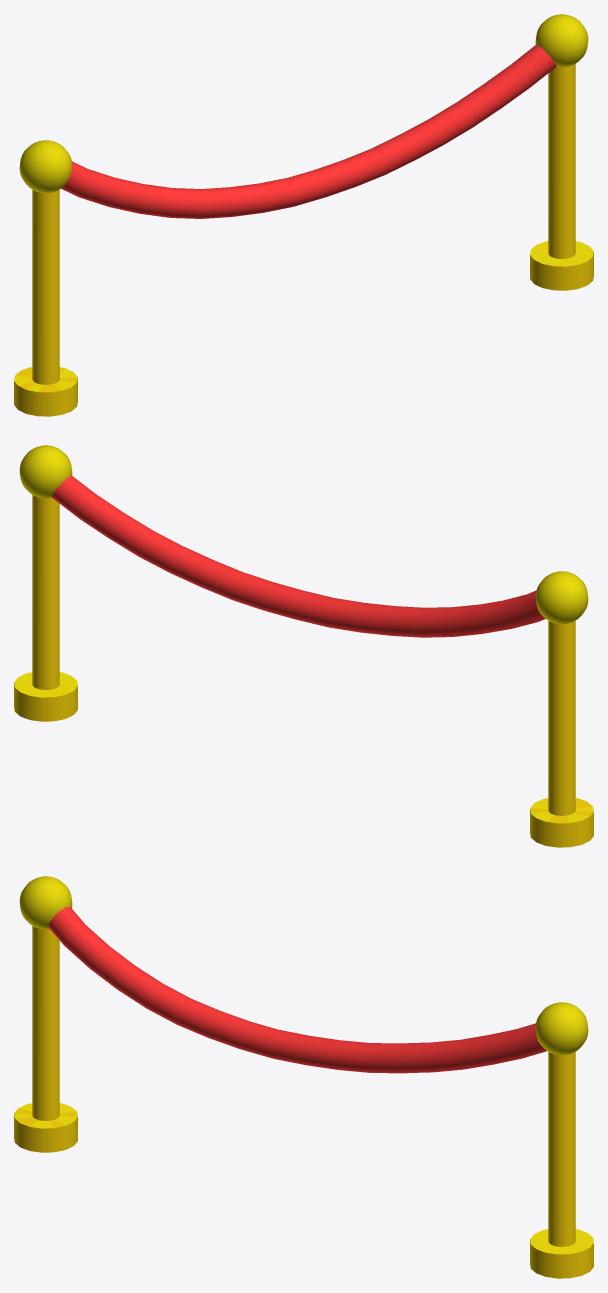
The model's file is SellerWay.fbx.
3 renders of one model, top to bottom at view 1: azimuth 30°, elevation 25°; view 2: azimuth 150°, elevation 25°; view 3: azimuth 330°, elevation 25°, orthographic.
Parts seen in each view (by area): view 1: WayProbe; view 2: WayProbe; view 3: WayProbe.
Boxes of the visible parts, x1=… form: WayProbe: x1=14, y1=14, x2=593, y2=416; WayProbe: x1=14, y1=445, x2=593, y2=847; WayProbe: x1=14, y1=876, x2=593, y2=1278.
Size of the model in its own units: 151 by 65.64 by 14.75.
